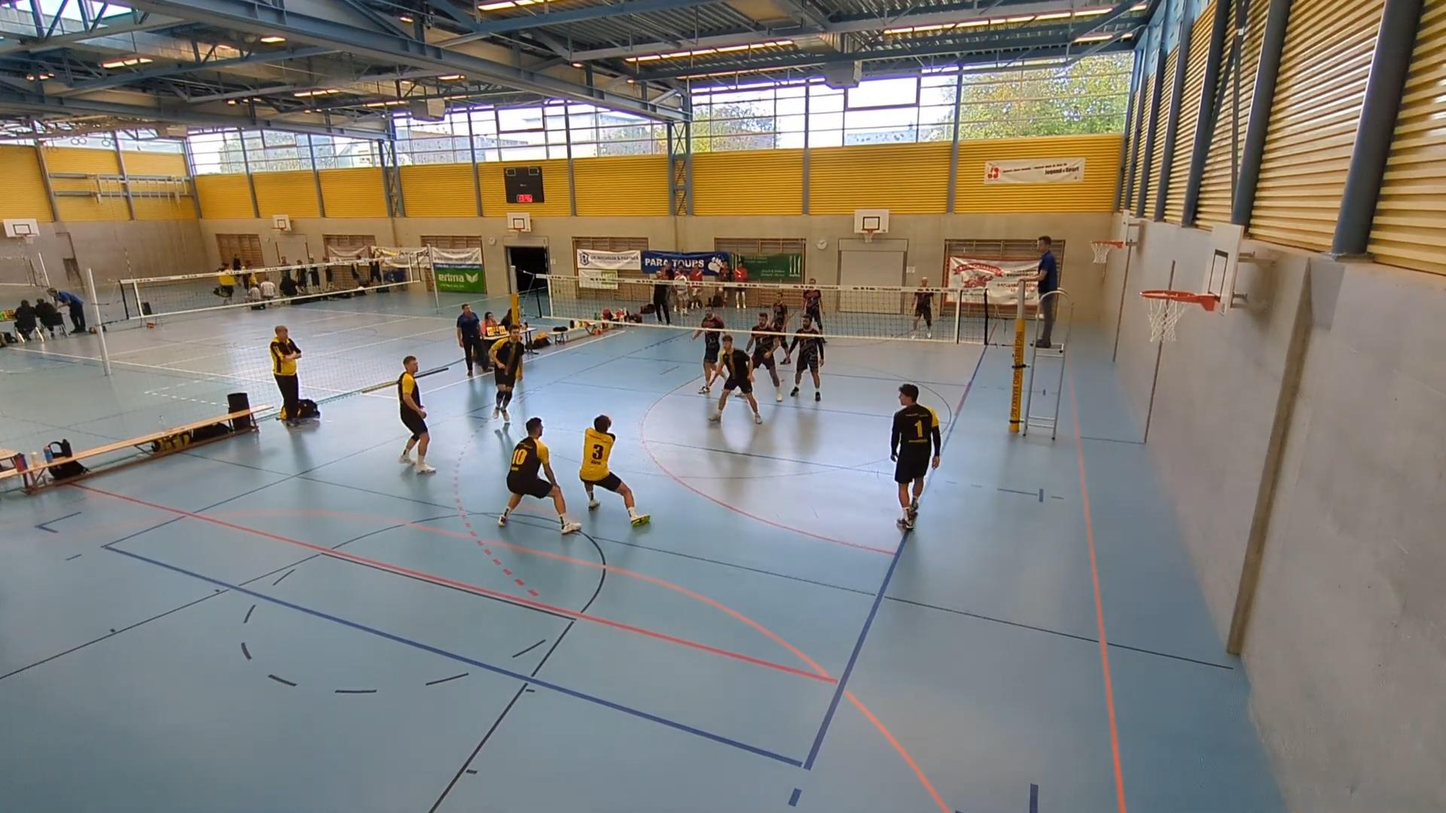ricezione: (580, 410, 656, 528)
